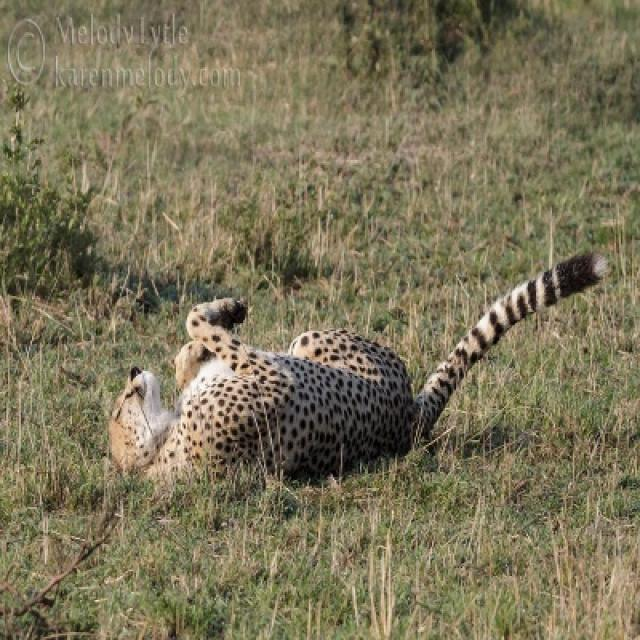Cheetah: (107, 253, 610, 485)
